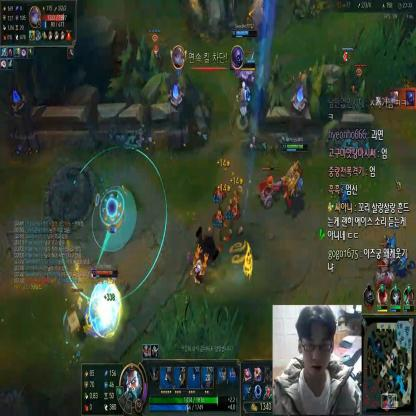streamer: (273, 304, 362, 413)
